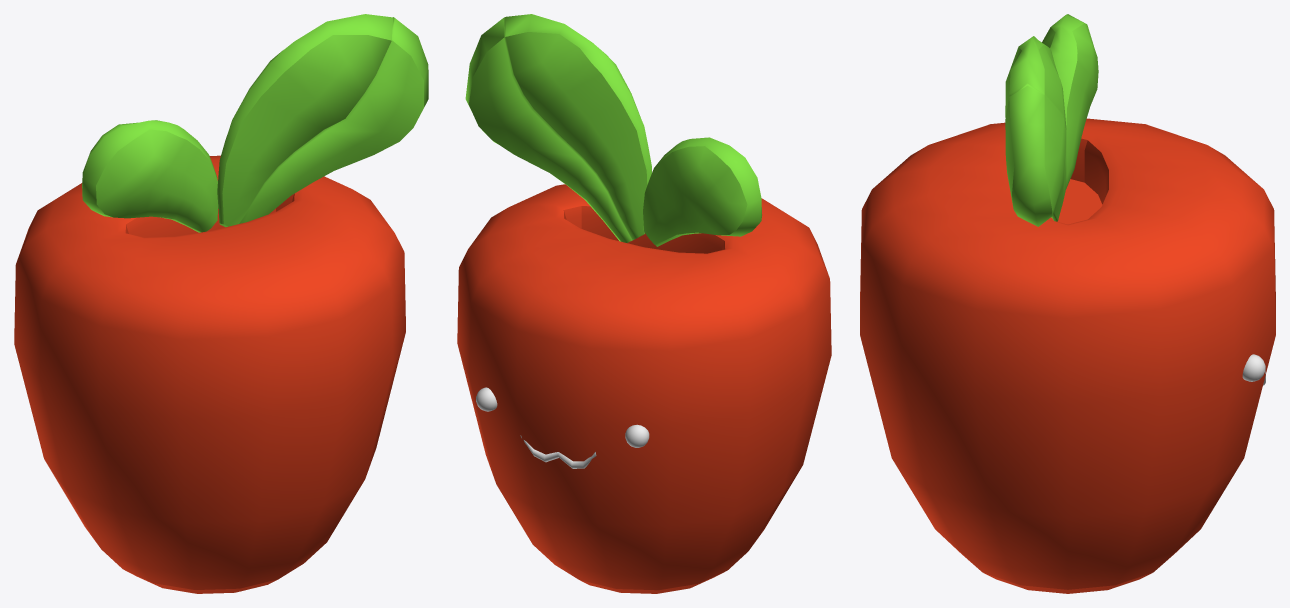
The model's file is 3Vegetales_Carrot1_model.FBX.
The picture shows the model from 3 angles, left to right: view 1: azimuth 30°, elevation 25°; view 2: azimuth 150°, elevation 25°; view 3: azimuth 270°, elevation 25°; orthographic projection. The views are drawn at different scales.
Parts seen in each view (by area): view 1: Cone001, Plane006, Leaf2; view 2: Cone001, Plane006, Leaf2, Cylinder001; view 3: Cone001, Plane006, Leaf2.
Part boxes in pixels (box(x1,y1,x2,y2)): Cone001: box(14, 155, 405, 593); Plane006: box(217, 14, 428, 227); Leaf2: box(82, 120, 218, 232); Cone001: box(457, 184, 831, 593); Plane006: box(465, 14, 651, 242); Leaf2: box(643, 137, 761, 246); Cylinder001: box(520, 435, 596, 468); Cone001: box(860, 118, 1275, 593); Plane006: box(1005, 36, 1066, 226); Leaf2: box(1042, 14, 1098, 188).
Size of the model in its own units: 85.84 by 119 by 76.33.
